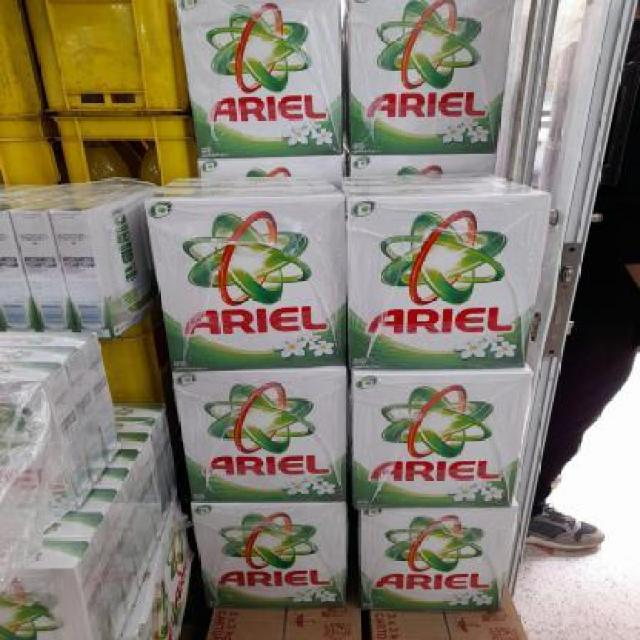Detergent: (144, 195, 342, 368), (348, 195, 522, 370), (172, 0, 342, 157), (350, 368, 524, 504), (345, 0, 499, 152), (169, 373, 343, 502), (189, 502, 345, 607), (358, 508, 497, 612)
